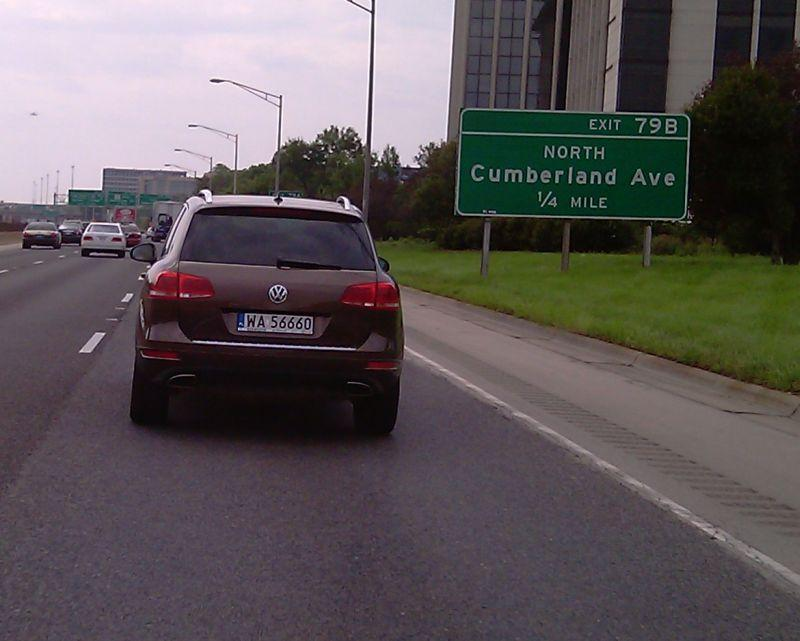placa de veiculo: (218, 295, 330, 359)
